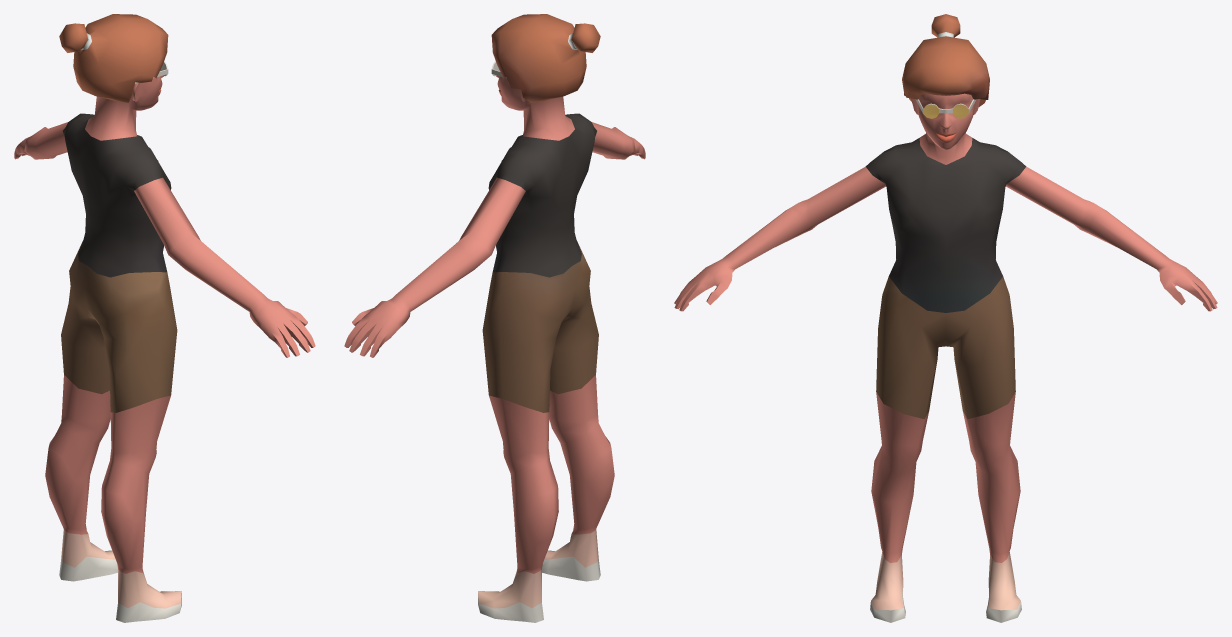
The model's file is _nemy.fbx.
3 views of the same model, side by side, from view 1: azimuth 30°, elevation 25°; view 2: azimuth 150°, elevation 25°; view 3: azimuth 270°, elevation 25° (orthographic).
Parts seen in each view (by area): view 1: Man2; view 2: Man2; view 3: Man2.
Part boxes in pixels (x1,y1,x2,y2): Man2: (14,14,315,622); Man2: (344,14,645,622); Man2: (674,14,1217,622).
Size of the model in its own units: 39.03 by 172 by 149.
